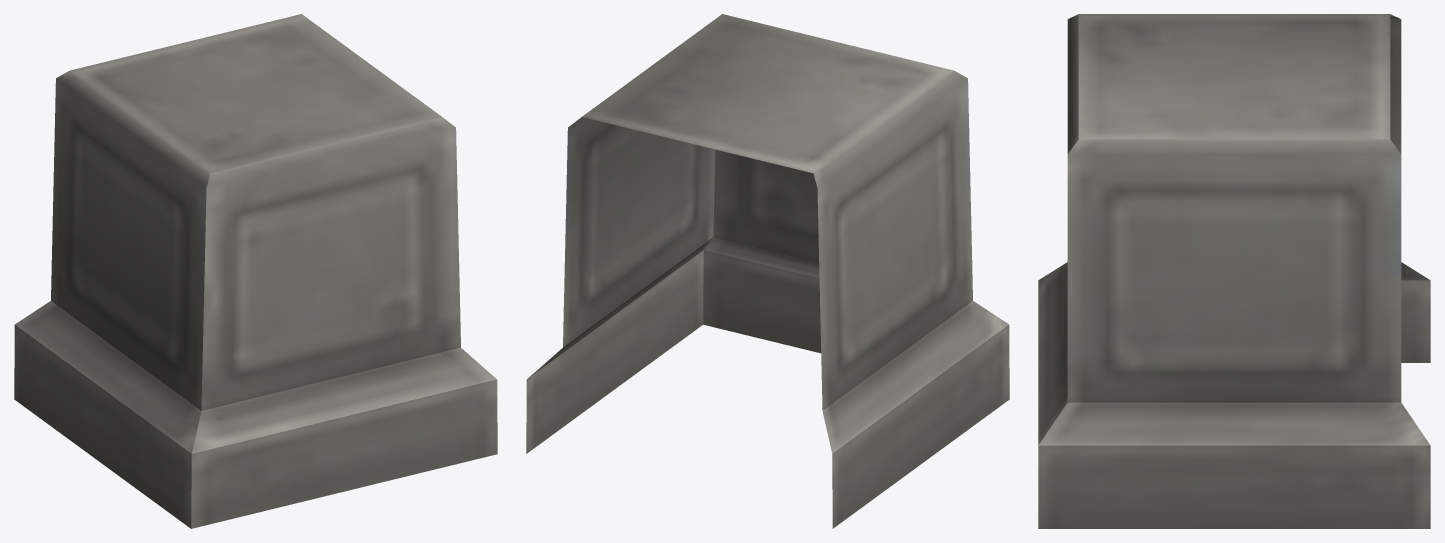
The model's file is all_mine_prop_9_3.FBX.
3 renders of one model, left to right at view 1: azimuth 30°, elevation 25°; view 2: azimuth 150°, elevation 25°; view 3: azimuth 270°, elevation 25°, orthographic. The views are drawn at different scales.
Visible parts, largest first — view 1: Object512; view 2: Object512; view 3: Object512.
Part boxes in pixels (left/top/right/bottom): Object512: left=14, top=14, right=497, bottom=528; Object512: left=526, top=14, right=1009, bottom=528; Object512: left=1038, top=14, right=1430, bottom=528.
Bounding box in the file's own units: 28.28 × 29.37 × 28.28.
